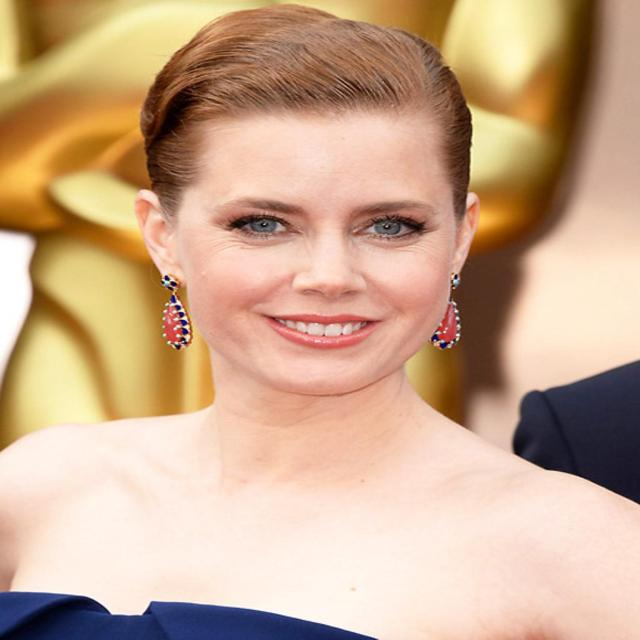Face: (173, 81, 466, 400)
